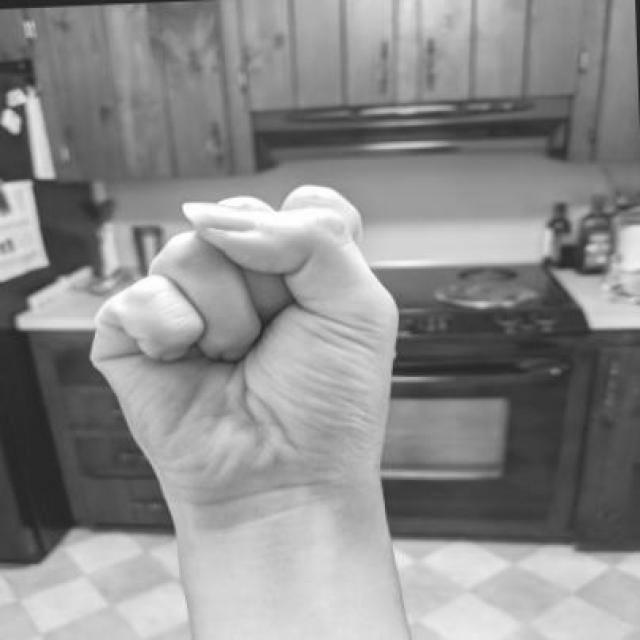S: (77, 175, 414, 516)
